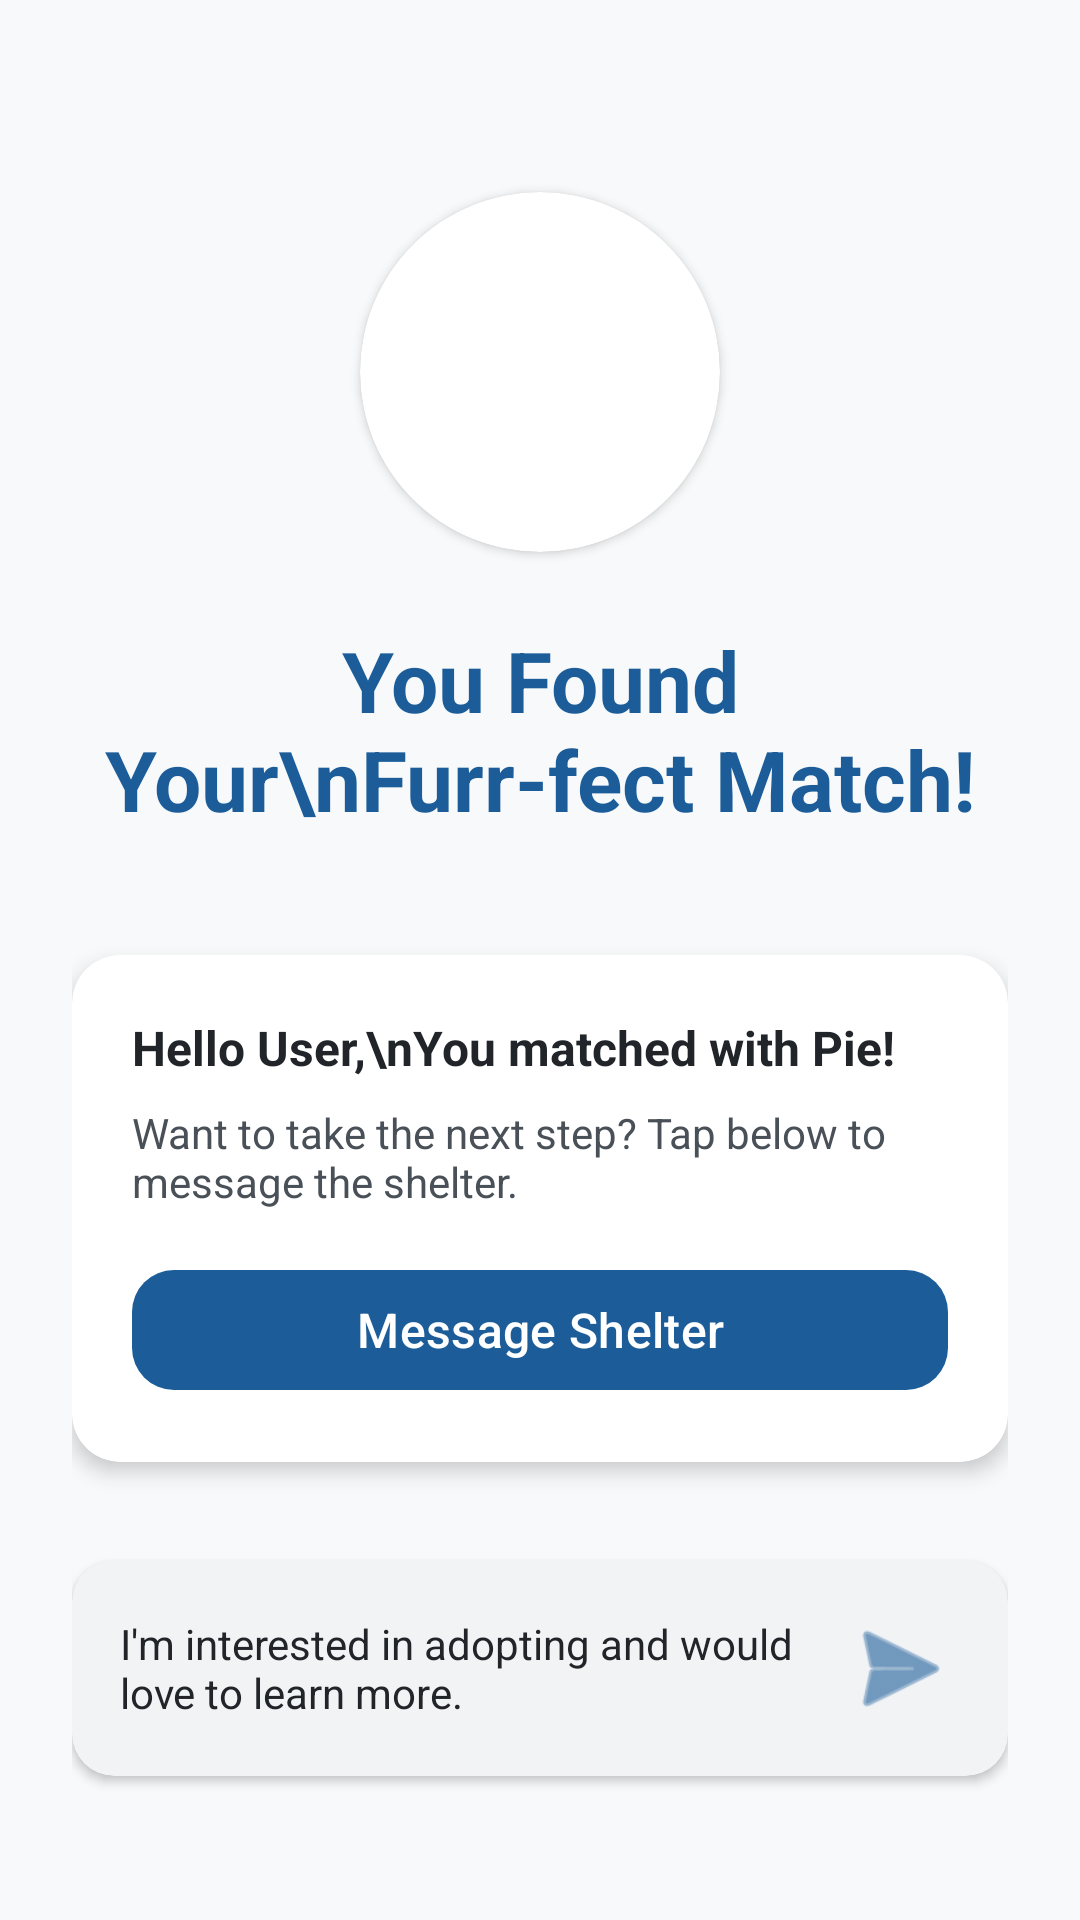

Screen size 1080px×1920px. Icon name, then its center in pixels as (x,y):
send: (901,1669)
